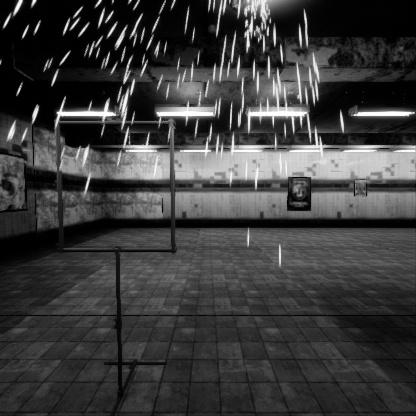gate: (55, 162, 187, 296)
